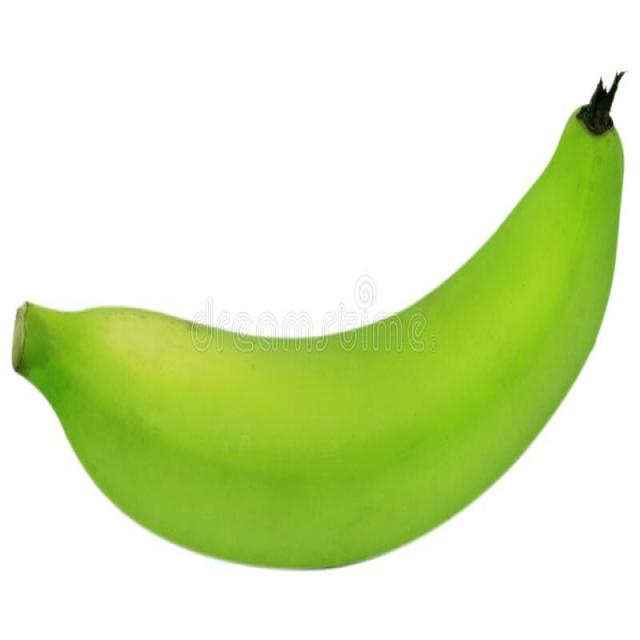non_orange: (12, 75, 625, 576)
